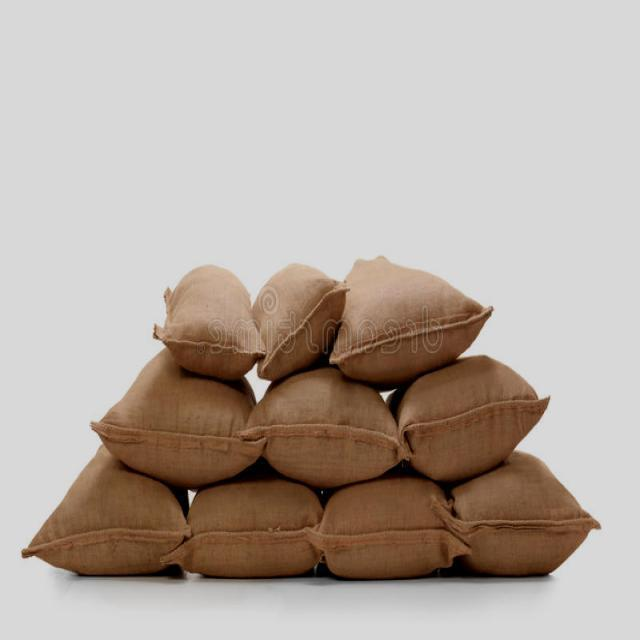gunny_bag: (314, 250, 493, 398), (382, 350, 552, 482), (75, 374, 266, 490), (240, 362, 409, 488), (166, 466, 337, 588), (447, 448, 602, 581), (19, 464, 190, 572), (306, 468, 468, 578), (154, 251, 272, 381), (248, 251, 354, 389)
